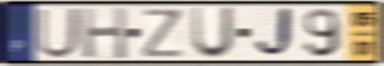9: (302, 7, 342, 59)
H: (80, 6, 130, 61)
J: (252, 5, 295, 61)
U: (189, 5, 238, 61), (36, 6, 84, 61)
Z: (141, 7, 186, 59)
